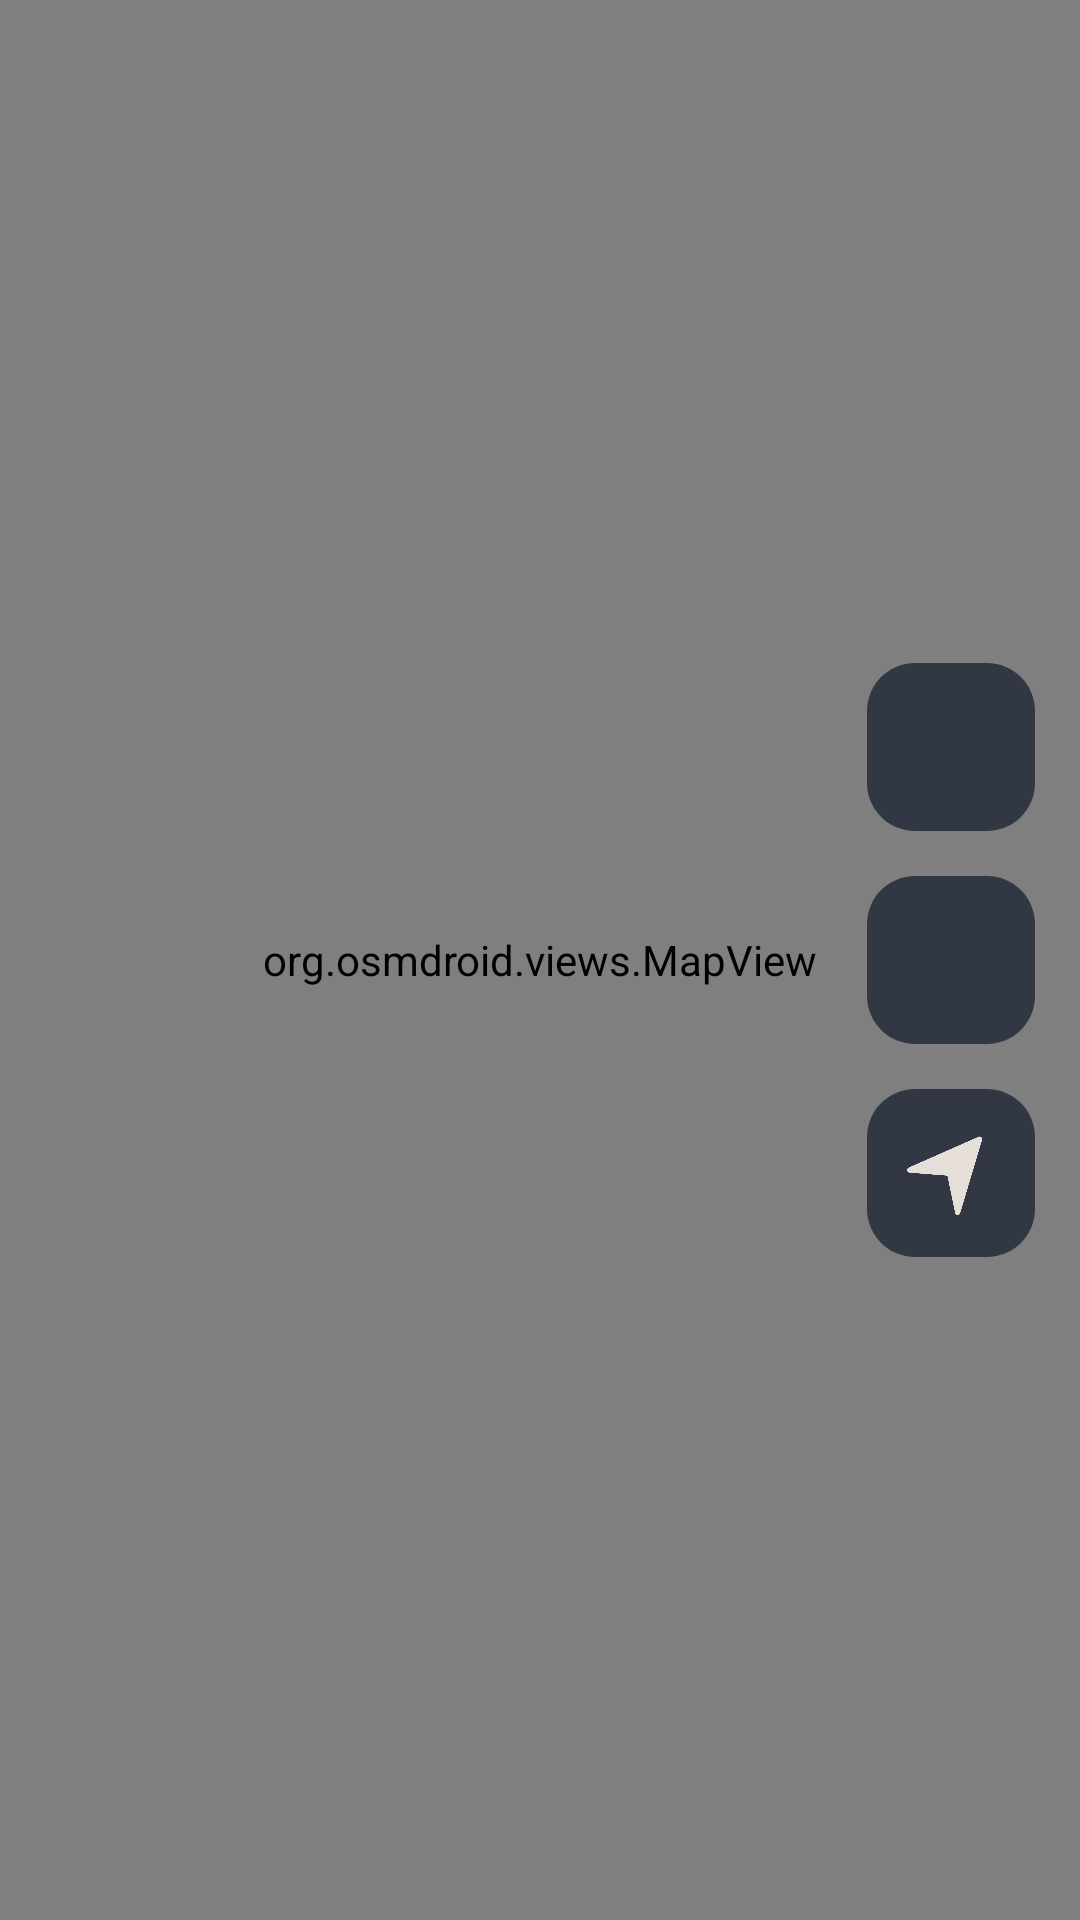

Locate icon controls on the screen. Image size 1080×1920, boxes as detection(x1, y1, x2, y2).
arrow: detection(867, 1089, 1035, 1257)
